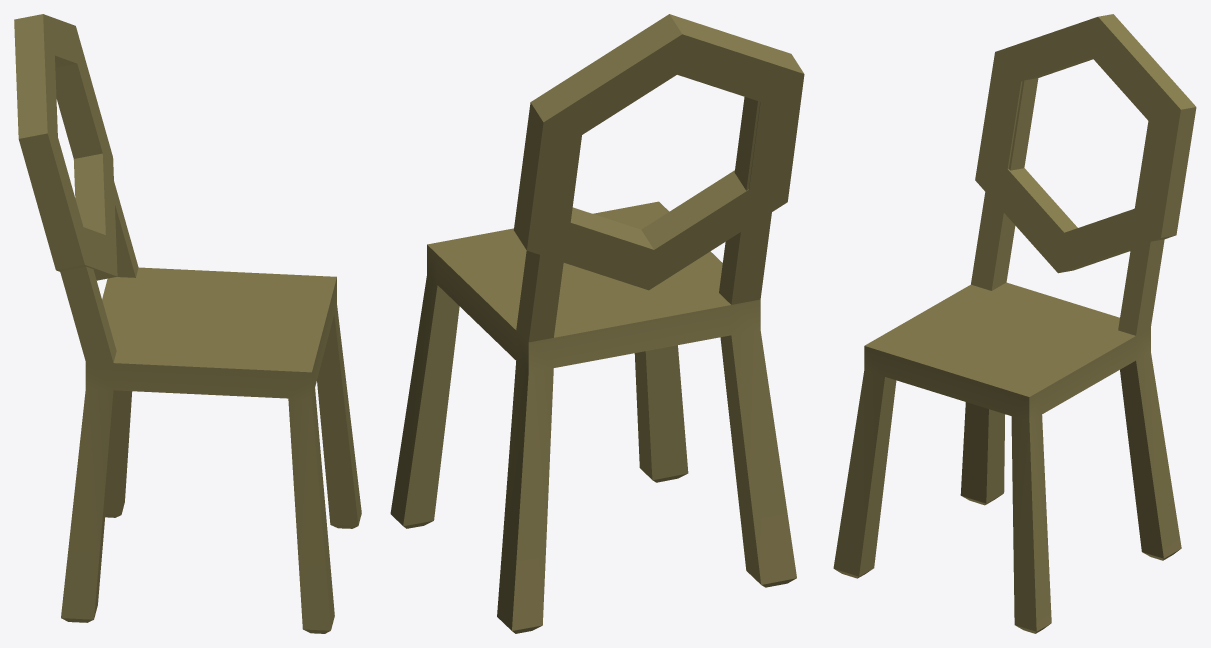
File: Chair.fbx
3 renders of one model, left to right at view 1: azimuth 30°, elevation 25°; view 2: azimuth 150°, elevation 25°; view 3: azimuth 270°, elevation 25°, orthographic. The views are drawn at different scales.
Parts seen in each view (by area): view 1: BeeChair; view 2: BeeChair; view 3: BeeChair.
Part boxes in pixels (bbox=[...]): BeeChair: bbox=[14, 14, 361, 633]; BeeChair: bbox=[390, 14, 804, 633]; BeeChair: bbox=[833, 14, 1196, 633].
Size of the model in its own units: 2.9 by 4.26 by 2.83.
